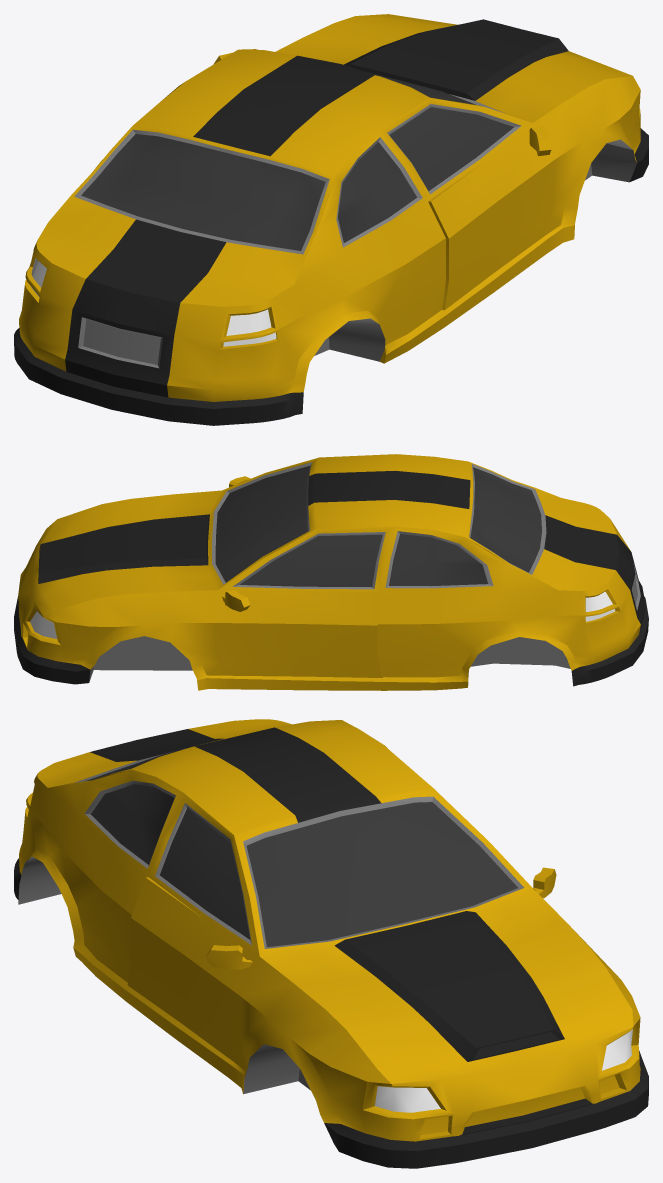
File: sports_lev1.glb
3 renders of one model, top to bottom at view 1: azimuth 30°, elevation 25°; view 2: azimuth 150°, elevation 25°; view 3: azimuth 270°, elevation 25°, orthographic. The views are drawn at different scales.
Visible parts, largest first — view 1: sports_lev1; view 2: sports_lev1; view 3: sports_lev1.
Part boxes in pixels (left/top/right/bottom): sports_lev1: left=14, top=14, right=648, bottom=425; sports_lev1: left=14, top=454, right=648, bottom=690; sports_lev1: left=14, top=719, right=648, bottom=1168.
Size of the model in its own units: 5.51 by 1.44 by 4.21.
3 materials, 1 textured.
